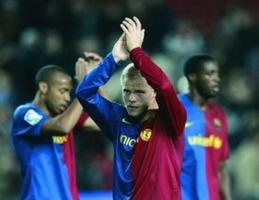person without safety: (94, 13, 186, 200), (11, 64, 79, 199), (180, 52, 235, 182)
